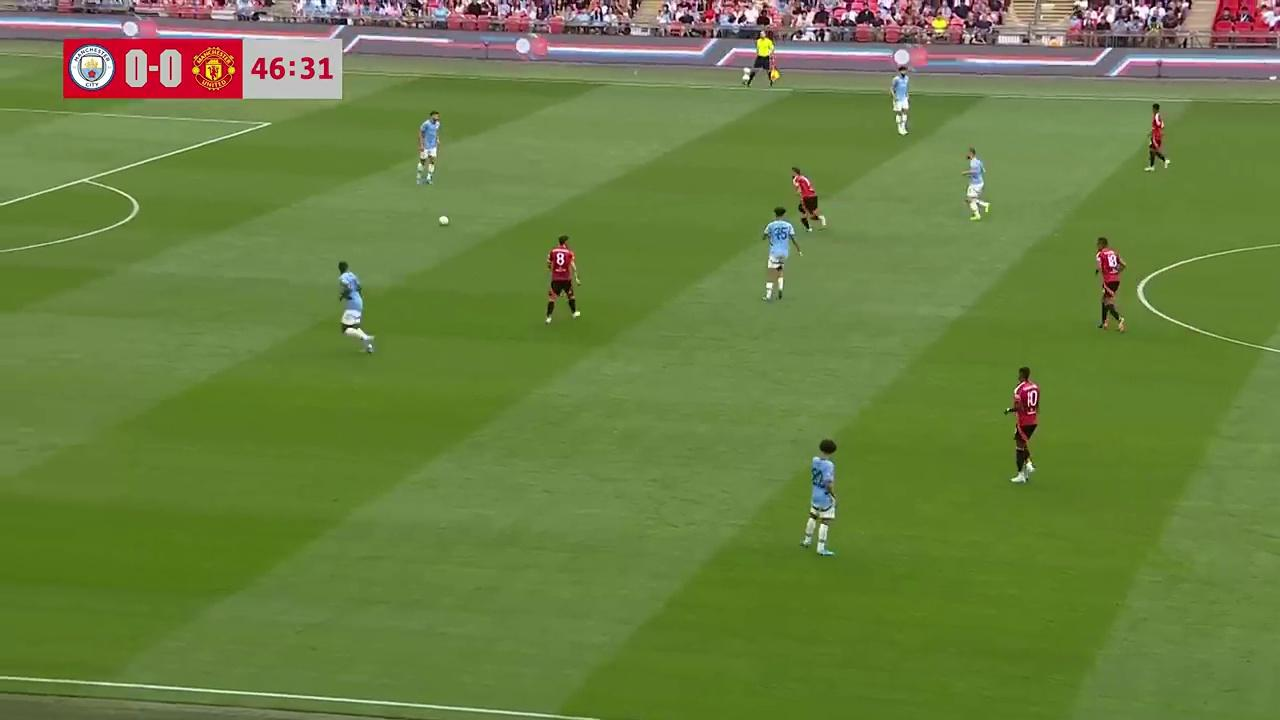ball: (436, 211, 450, 227)
player: (800, 439, 838, 554), (1004, 366, 1039, 484), (760, 206, 803, 301), (336, 261, 375, 354), (544, 235, 581, 324), (1094, 237, 1126, 333), (791, 167, 826, 234), (961, 146, 988, 220), (416, 110, 441, 185), (1145, 103, 1170, 172), (889, 68, 911, 136)
referee: (744, 28, 780, 87)
